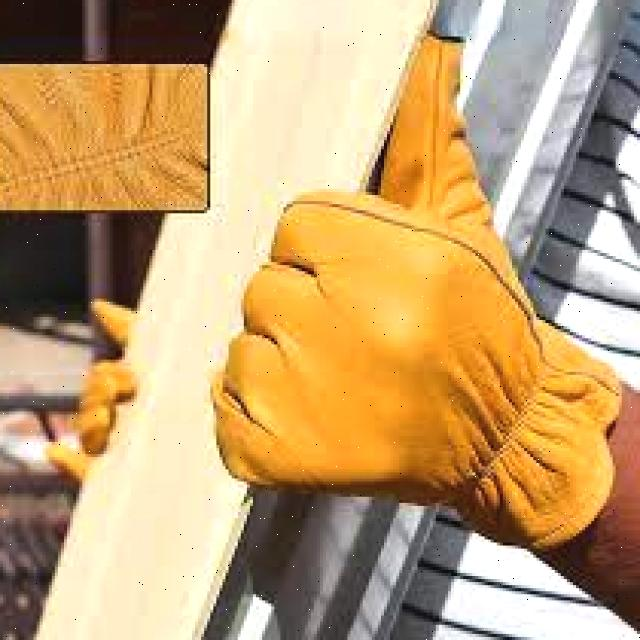Gloves: (212, 35, 640, 627)
